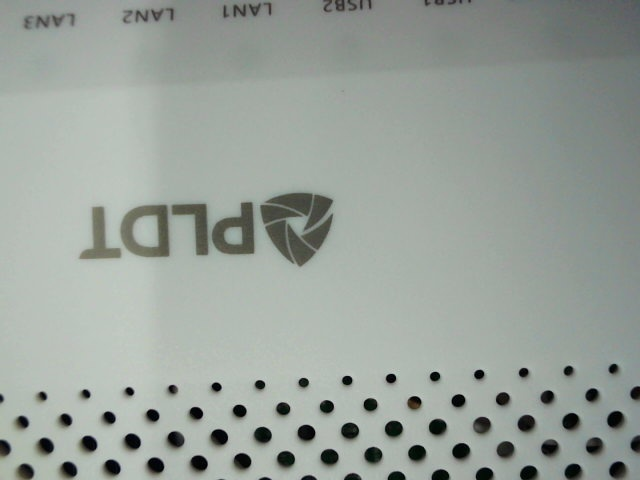BH_PLDT: (75, 182, 344, 272)
